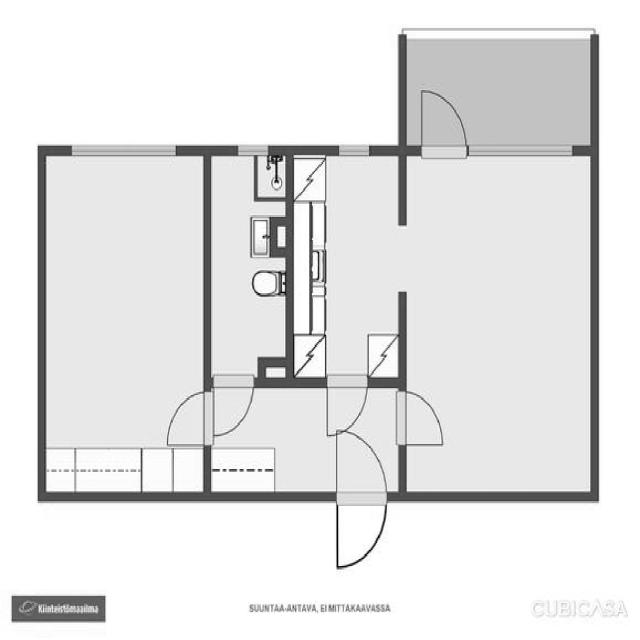door: (332, 426, 388, 566), (213, 378, 294, 473), (395, 386, 449, 454), (417, 87, 469, 157), (321, 374, 369, 438), (164, 389, 210, 453), (208, 378, 255, 440)
window: (70, 140, 183, 160), (468, 139, 576, 158), (334, 140, 376, 160), (232, 140, 274, 160)
zone: (404, 146, 601, 507), (41, 144, 211, 494), (294, 151, 404, 381), (208, 383, 403, 499), (209, 153, 289, 381)
